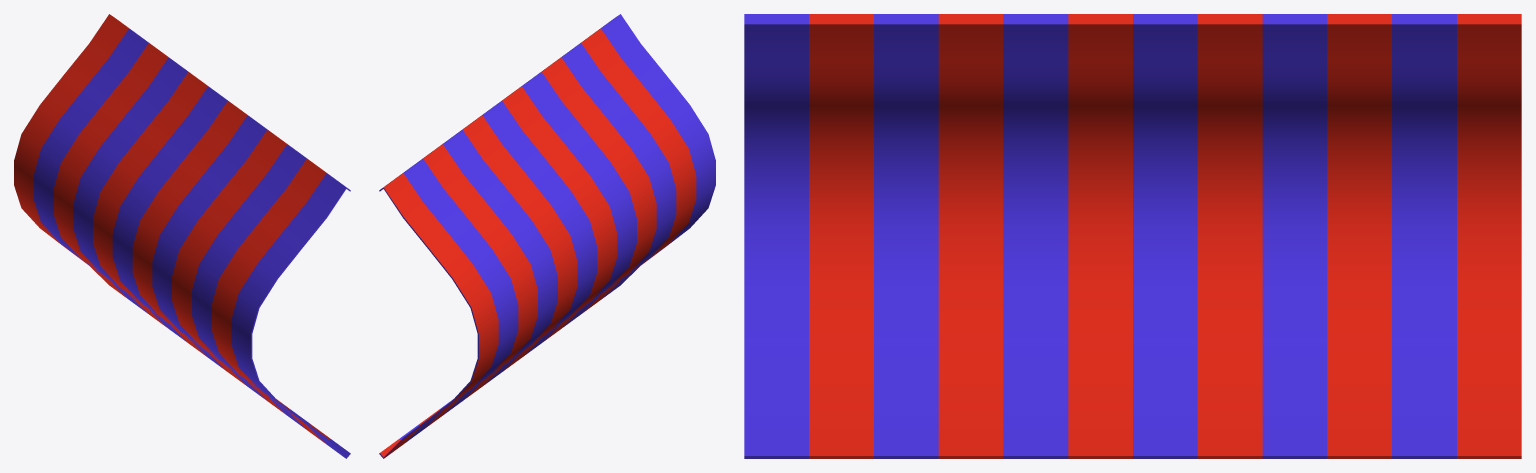
Rendered from Sail.fbx.
3 views of the same model, side by side, from view 1: azimuth 30°, elevation 25°; view 2: azimuth 150°, elevation 25°; view 3: azimuth 270°, elevation 25° (orthographic). The views are drawn at different scales.
Visible parts, largest first — view 1: Sail; view 2: Sail; view 3: Sail.
Part boxes in pixels (x1,y1,x2,y2): Sail: (14,14,350,458); Sail: (379,14,715,458); Sail: (744,14,1521,458).
Size of the model in its own units: 82.66 by 215 by 340.
